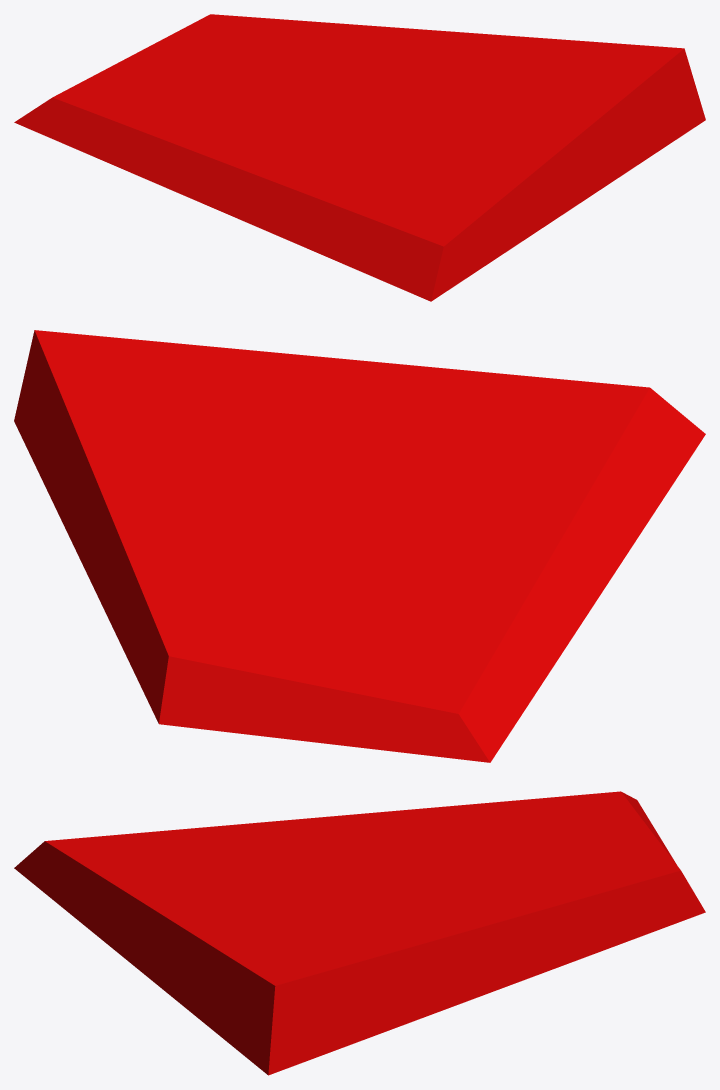
The model's file is SM_Env_RoadPiece_Damaged_07_Collision.fbx.
The picture shows the model from 3 angles, top to bottom: view 1: azimuth 30°, elevation 25°; view 2: azimuth 150°, elevation 25°; view 3: azimuth 270°, elevation 25°; orthographic projection. The views are drawn at different scales.
Visible parts, largest first — view 1: SM_Env_RoadPiece_Damaged_07_Collision; view 2: SM_Env_RoadPiece_Damaged_07_Collision; view 3: SM_Env_RoadPiece_Damaged_07_Collision.
Boxes of the visible parts, left/top/right/bottom form: SM_Env_RoadPiece_Damaged_07_Collision: left=14, top=14, right=705, bottom=301; SM_Env_RoadPiece_Damaged_07_Collision: left=14, top=330, right=705, bottom=762; SM_Env_RoadPiece_Damaged_07_Collision: left=14, top=791, right=705, bottom=1075.
Size of the model in its own units: 296 by 40.08 by 314.
